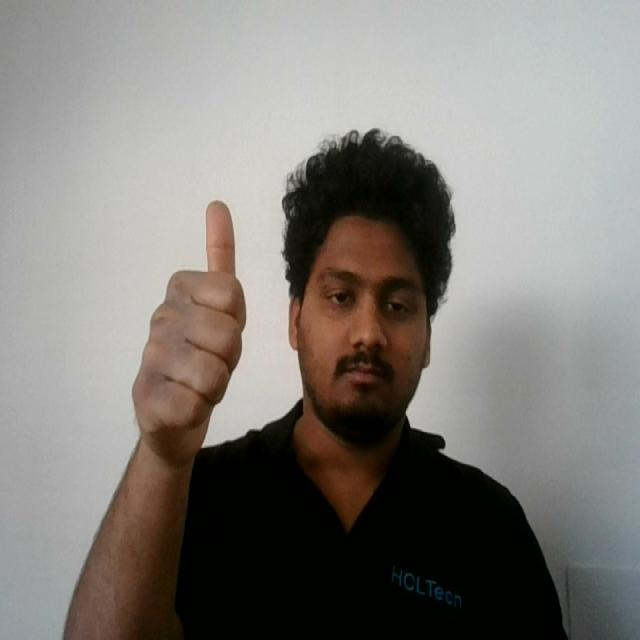Yes: (120, 192, 254, 473)
